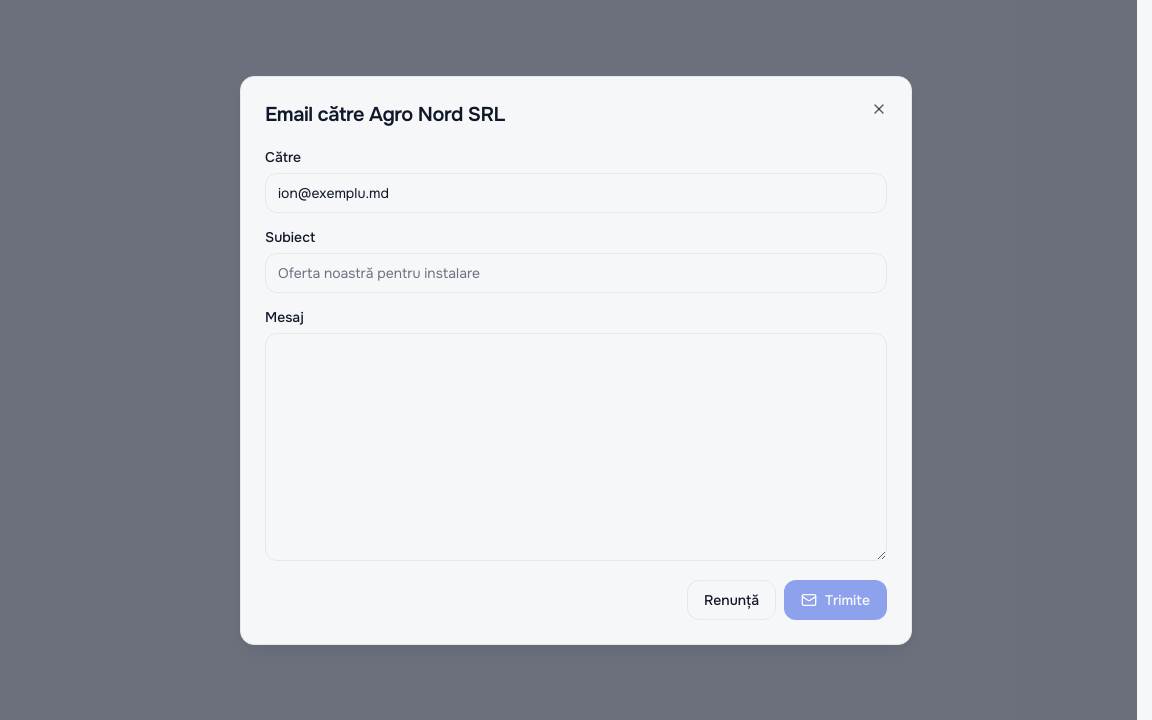
Test: trimiterea unui email › un email trimis cu succes o spune clar
The width and height of the screenshot is (1152, 720).
Step 1. Type "S" into the field labelled "Subiect" → (576, 272), box 265,252 -> 887,292
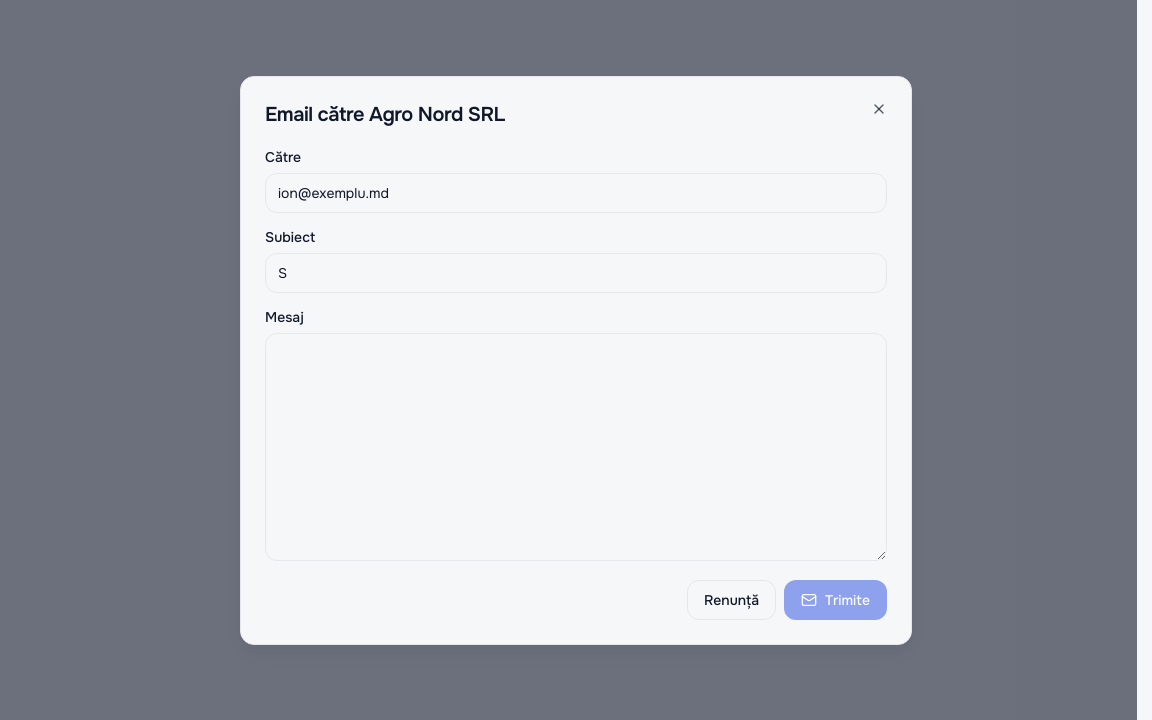
Step 2. Type "B" into the text box labelled "Mesaj" → (576, 446), box 265,332 -> 887,560
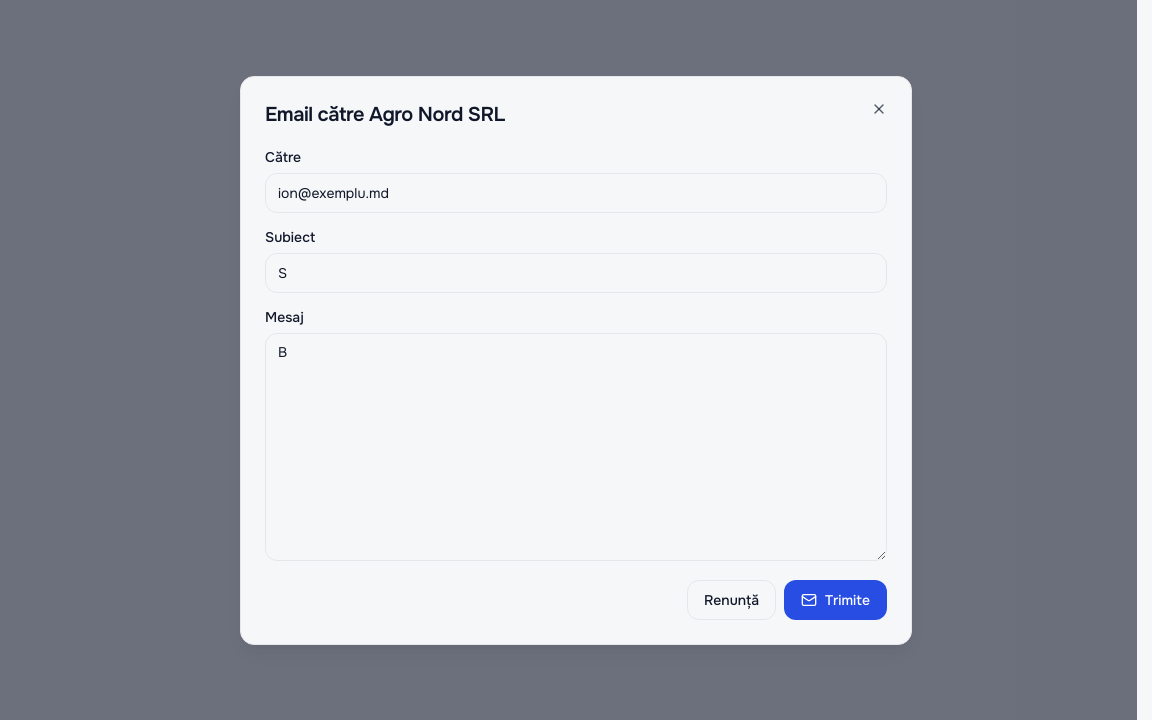
Step 3. Click the button "Trimite" → click(836, 600), box 784,580 -> 887,620
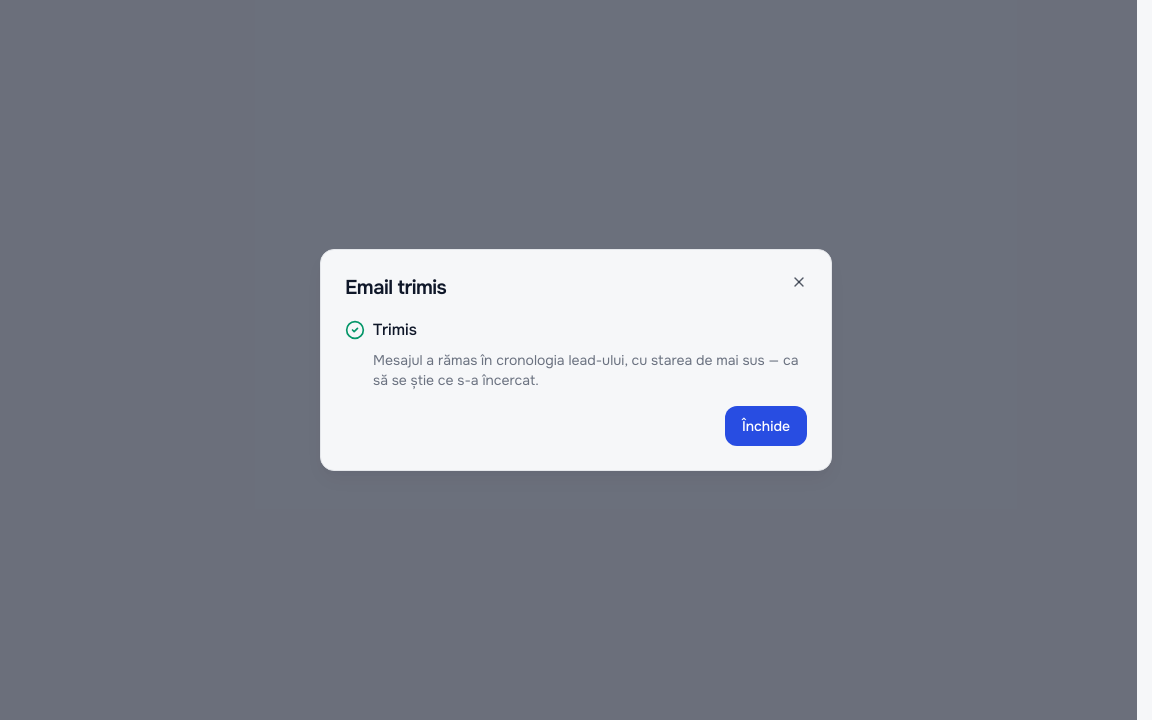
Now the heading "Email trimis" is shown, box 345,275 -> 446,300
